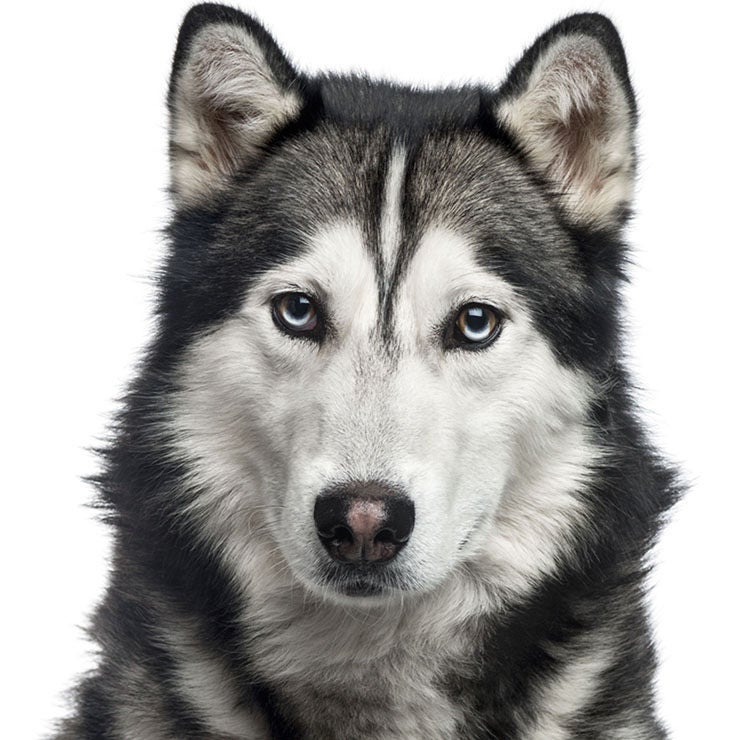husky: (128, 1, 678, 735)
